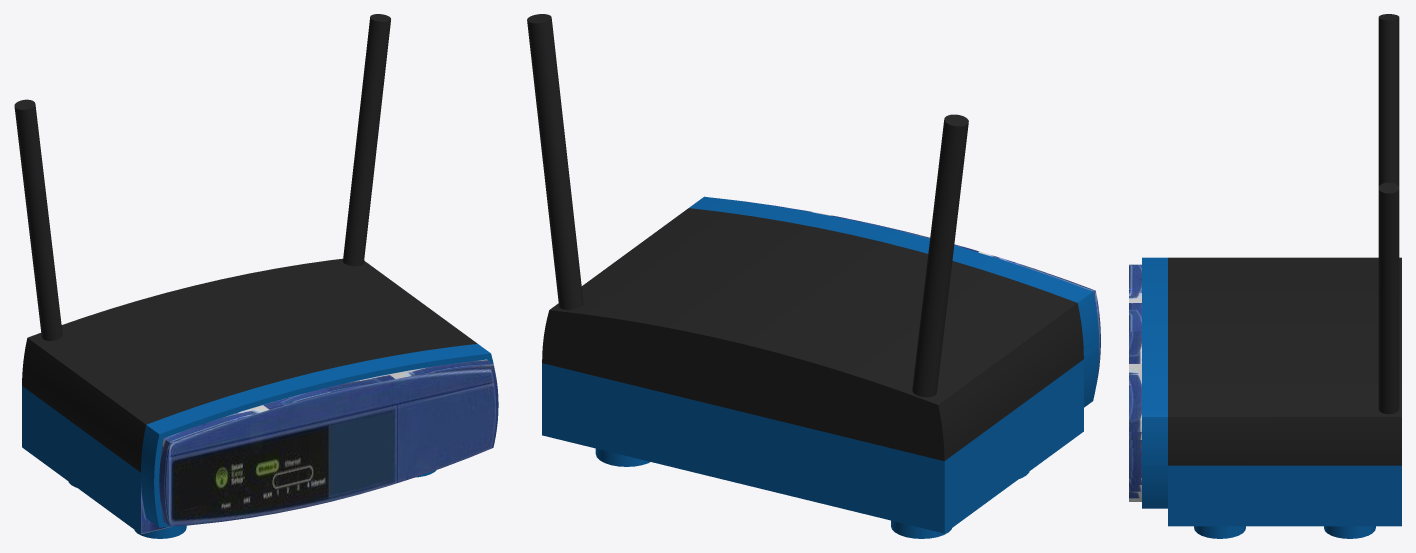
Rendered from router.dae.
The picture shows the model from 3 angles, left to right: view 1: azimuth 30°, elevation 25°; view 2: azimuth 150°, elevation 25°; view 3: azimuth 270°, elevation 25°; orthographic projection. The views are drawn at different scales.
Parts seen in each view (by area): view 1: Model; view 2: Model; view 3: Model.
Boxes of the visible parts, bbox=[...] form: Model: bbox=[14, 14, 498, 538]; Model: bbox=[527, 14, 1100, 538]; Model: bbox=[1129, 14, 1401, 538].
Bounding box in the file's own units: 16.35 × 10.5 × 15.6.
